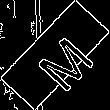M_NW: (20, 21, 90, 89)
